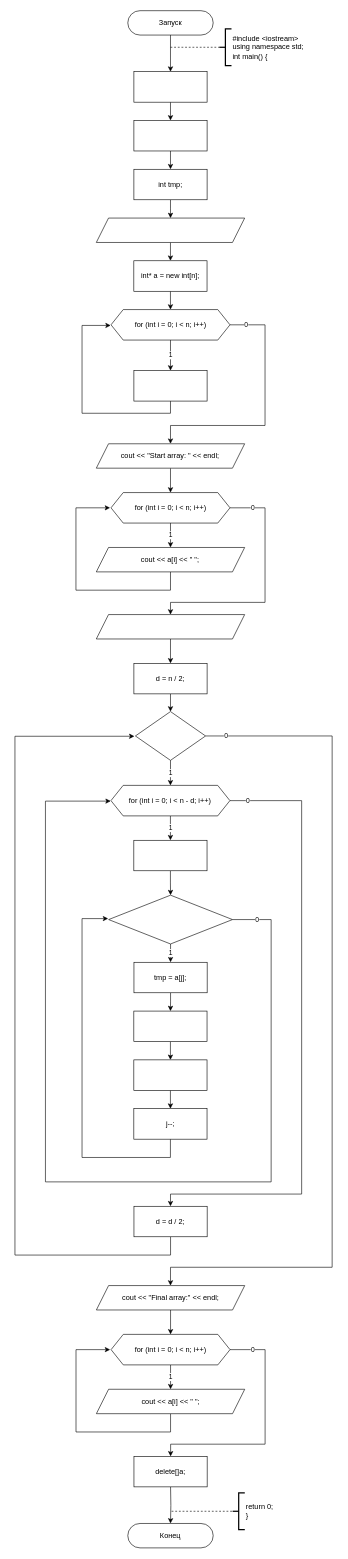
Some shapes in this 348 by 1559 pixel diagram are drawn without their labels. The shapes that lost their labels are listed below. From the top down, each one's box as (x1, y1, x2, y2) in pixels, then its label:
(133, 71, 207, 102): int n;
(133, 120, 207, 151): int d;
(96, 217, 245, 242): cin >> n;
(133, 370, 207, 401): a[i] = rand() % 100;
(96, 614, 245, 639): cout << endl;
(135, 711, 206, 760): while (d > 0)
(133, 840, 207, 871): int j = i;
(108, 895, 232, 944): while (j >= 0 && a[j] > a[j + d])
(133, 1010, 207, 1042): a[j] = a[j + d];
(133, 1059, 207, 1090): a[j + d] = tmp;
